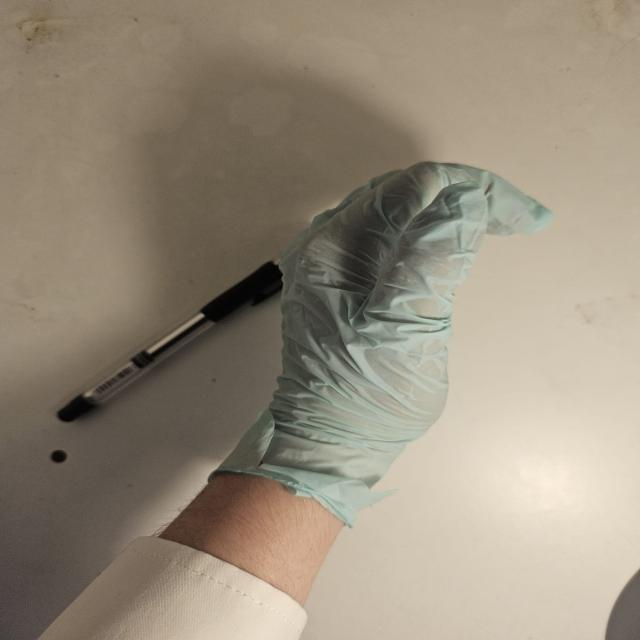gloves_damaged: (205, 158, 559, 530)
